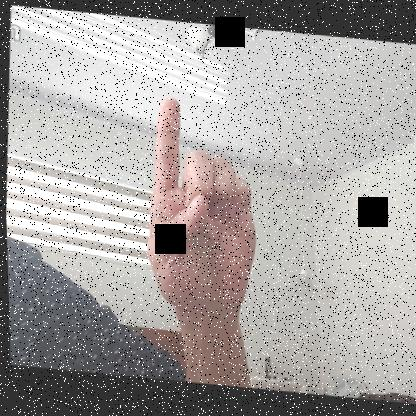D: (137, 92, 267, 313)
